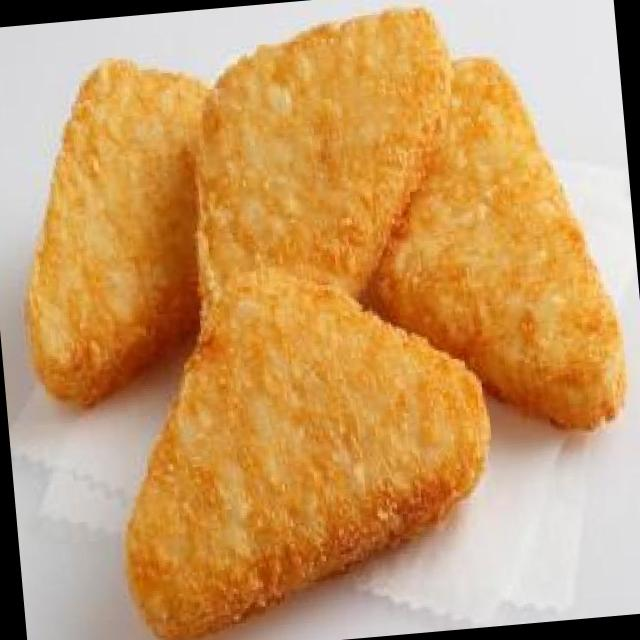triangle_hash_brown: (7, 19, 634, 636)
